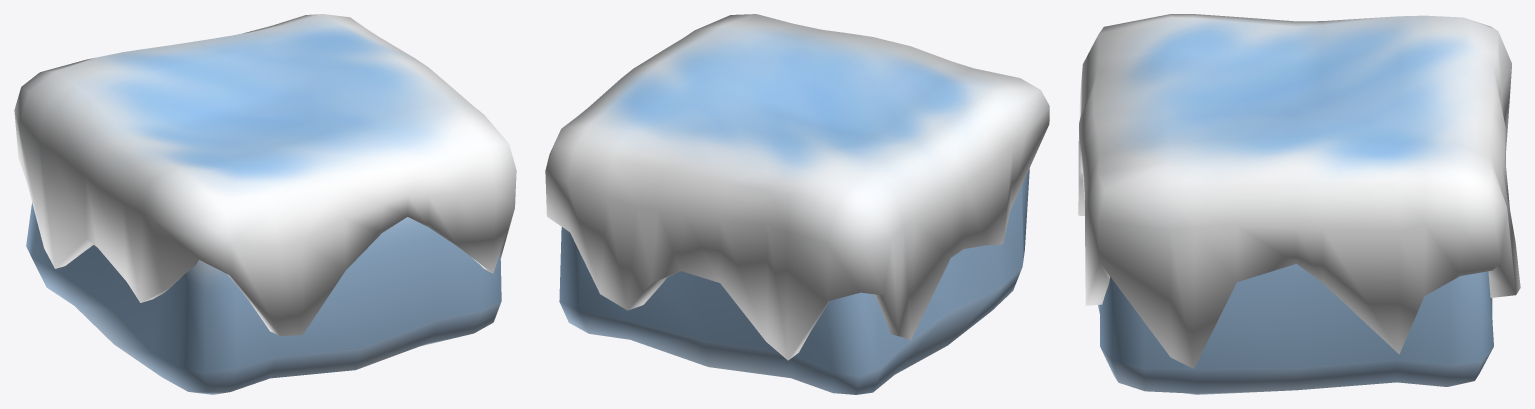
Rendered from iceblock_sliced2.fbx.
3 renders of one model, left to right at view 1: azimuth 30°, elevation 25°; view 2: azimuth 150°, elevation 25°; view 3: azimuth 270°, elevation 25°, orthographic. The views are drawn at different scales.
Visible parts, largest first — view 1: 얼음1바닥.003; view 2: 얼음1바닥.003; view 3: 얼음1바닥.003.
Part boxes in pixels (<box>): 얼음1바닥.003: <box>14,14,516,394</box>; 얼음1바닥.003: <box>545,14,1049,394</box>; 얼음1바닥.003: <box>1078,14,1520,394</box>.
Bounding box in the file's own units: 219 × 138 × 221.
